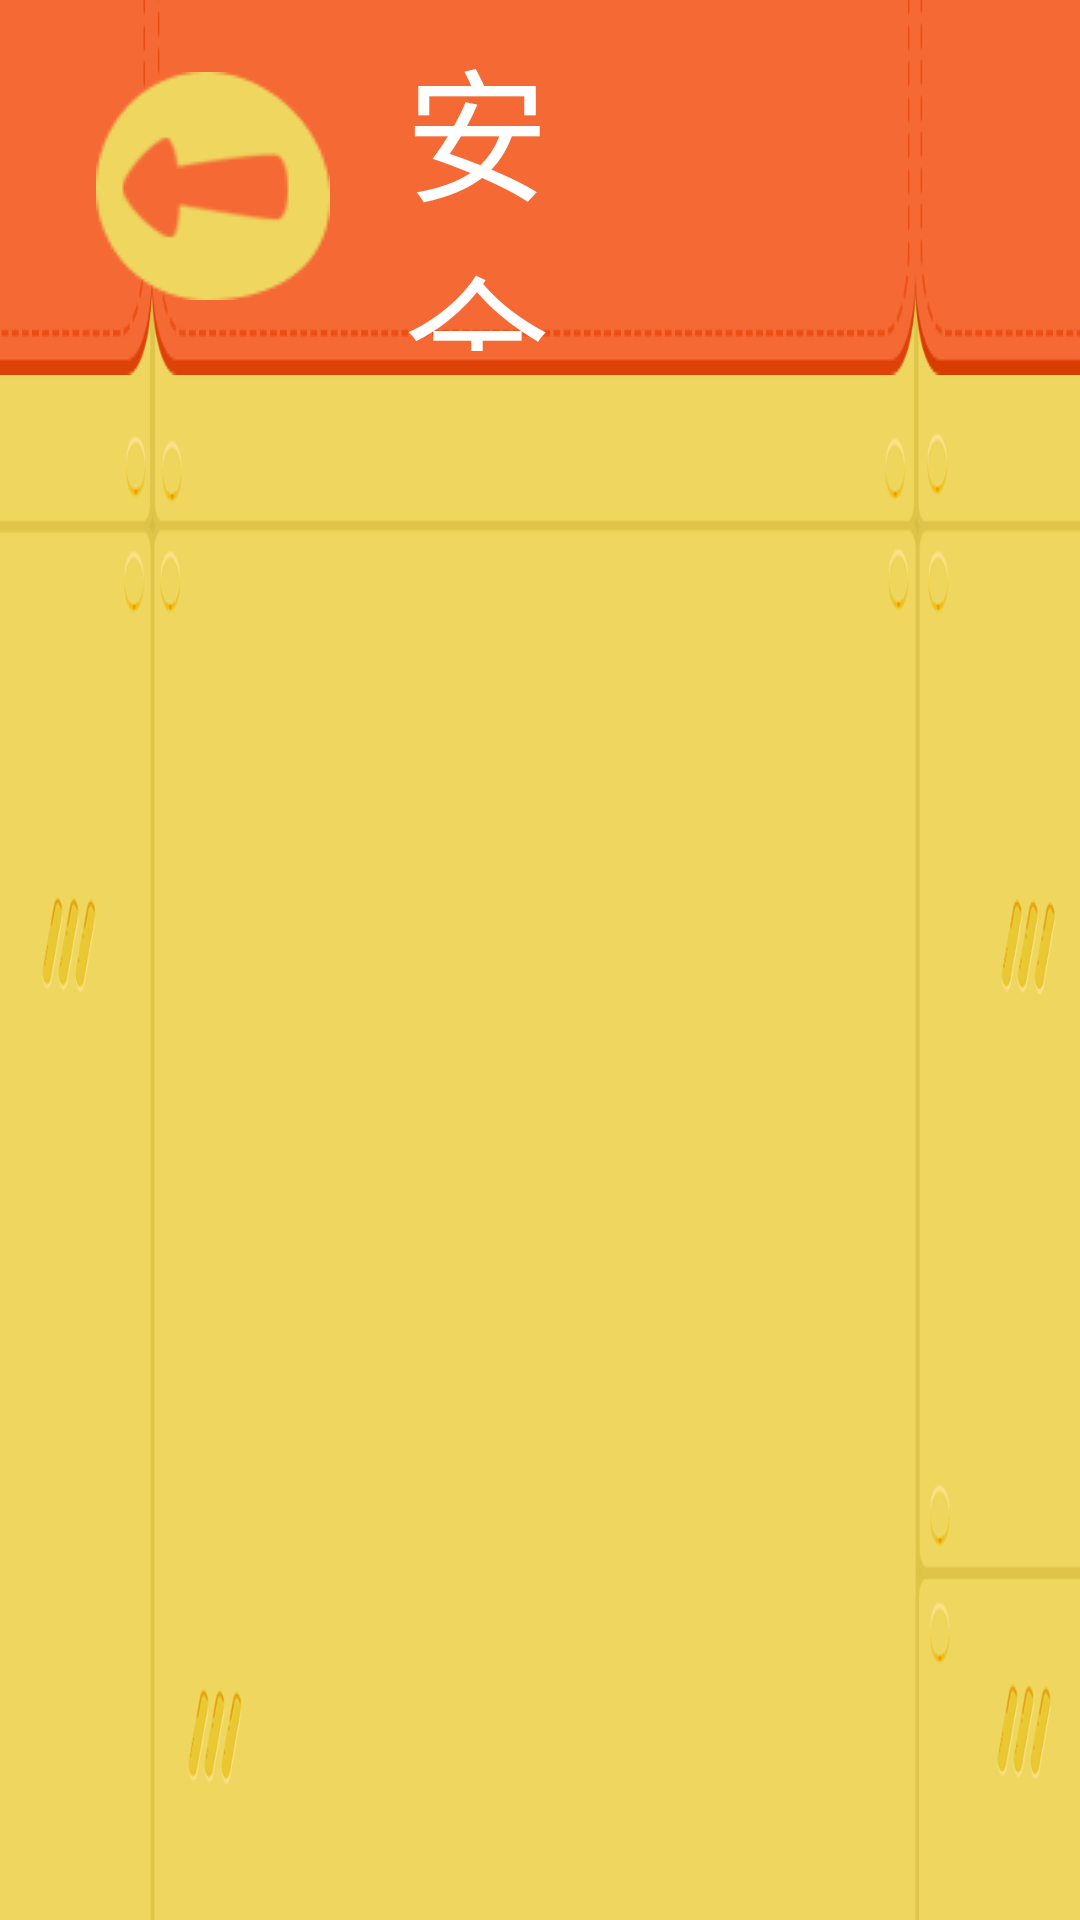

Point at icon controls on the screen. Image size 1080 × 1920, points as [x,y].
guide back: [215,181]
